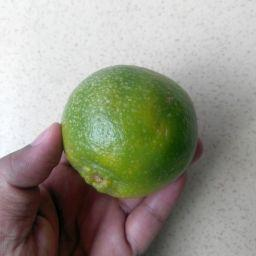Unripe: (63, 63, 200, 199)
